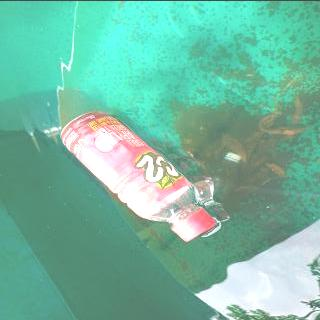bottle: (58, 110, 218, 242)
